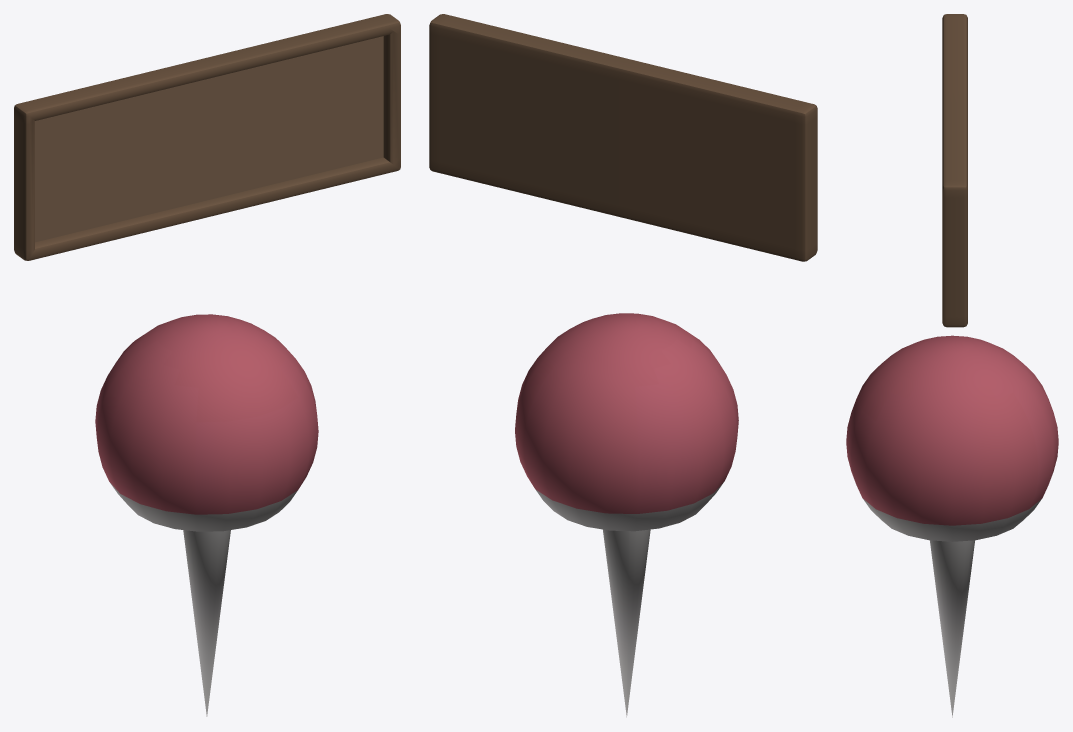
Rendered from City_pin_name_holder.fbx.
3 views of the same model, side by side, from view 1: azimuth 30°, elevation 25°; view 2: azimuth 150°, elevation 25°; view 3: azimuth 270°, elevation 25° (orthographic). The views are drawn at different scales.
Parts seen in each view (by area): view 1: pCube18; view 2: pCube18; view 3: pCube18.
Part boxes in pixels (<box>): pCube18: <box>14,14,400,716</box>; pCube18: <box>429,14,817,717</box>; pCube18: <box>846,14,1058,717</box>.
Size of the model in its own units: 3.15 by 5.22 by 1.62.
